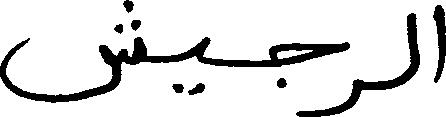X: (0, 0, 146, 107), (269, 38, 342, 116), (344, 37, 362, 115), (193, 32, 211, 99), (434, 0, 445, 87), (408, 8, 418, 85)
